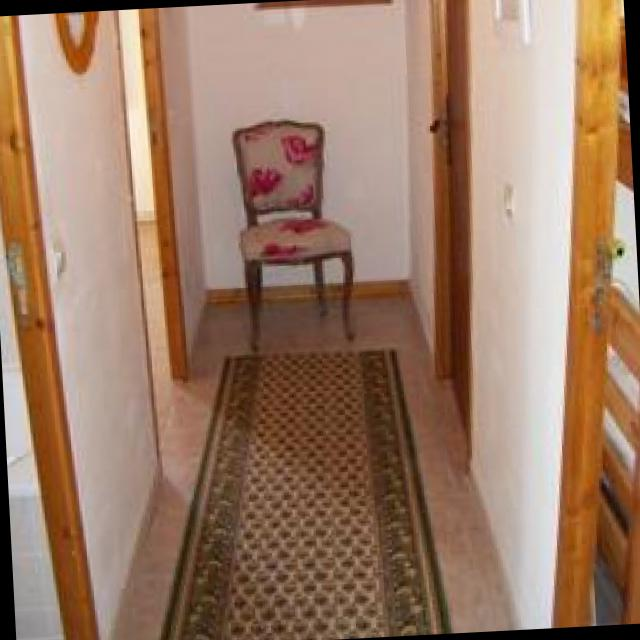chair -occluded-: (227, 117, 353, 352)
door bars: (549, 0, 640, 626), (114, 8, 183, 467), (428, 0, 466, 476)
floor -X: (106, 220, 521, 640)
light switch: (45, 228, 70, 288), (501, 182, 511, 222)
mirror crop: (54, 14, 96, 72)
picture crop: (491, 0, 526, 44)
rug -partially obscured-: (159, 345, 451, 640)
wall clock: (0, 11, 158, 640), (158, 0, 424, 365), (465, 0, 575, 627)
